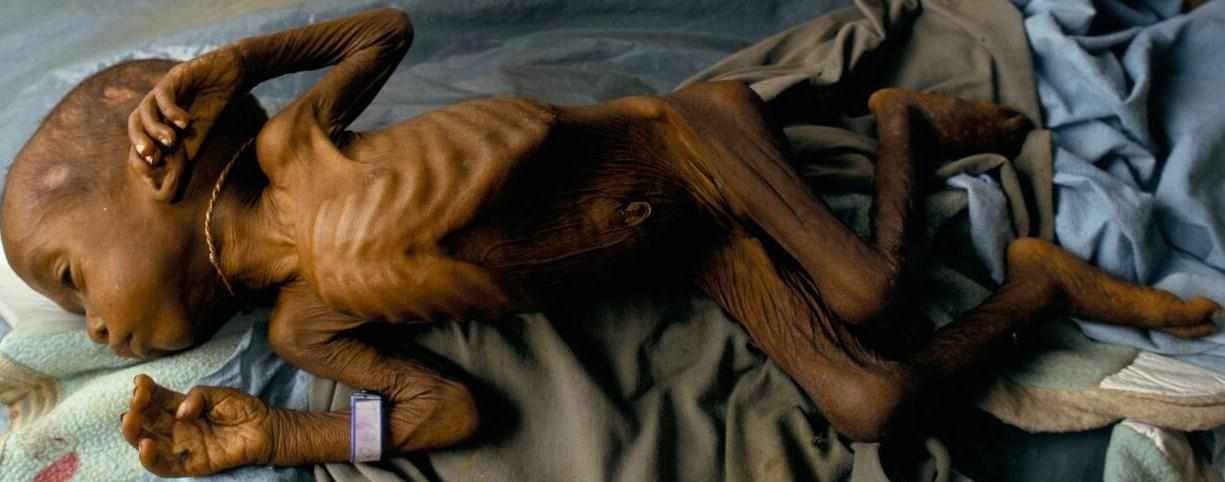Stunting: (13, 79, 291, 379)
